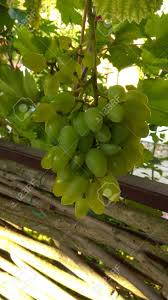grapes: (40, 72, 145, 218)
